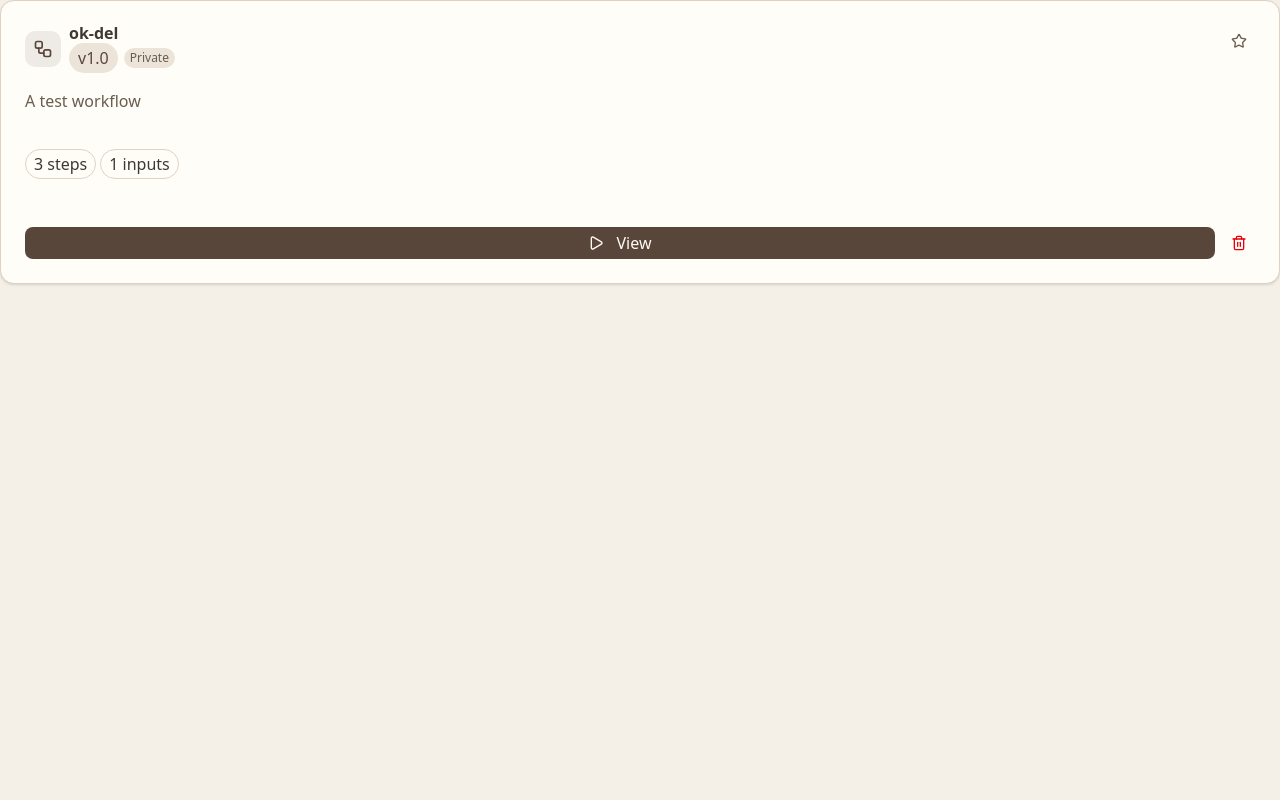
Scenario: WorkflowCard › successful delete shows success toast and closes dialog
This screenshot has width=1280, height=800.
Click the button with test id "workflow-delete-button".
click(1239, 243)  # box [1223,227,1255,259]
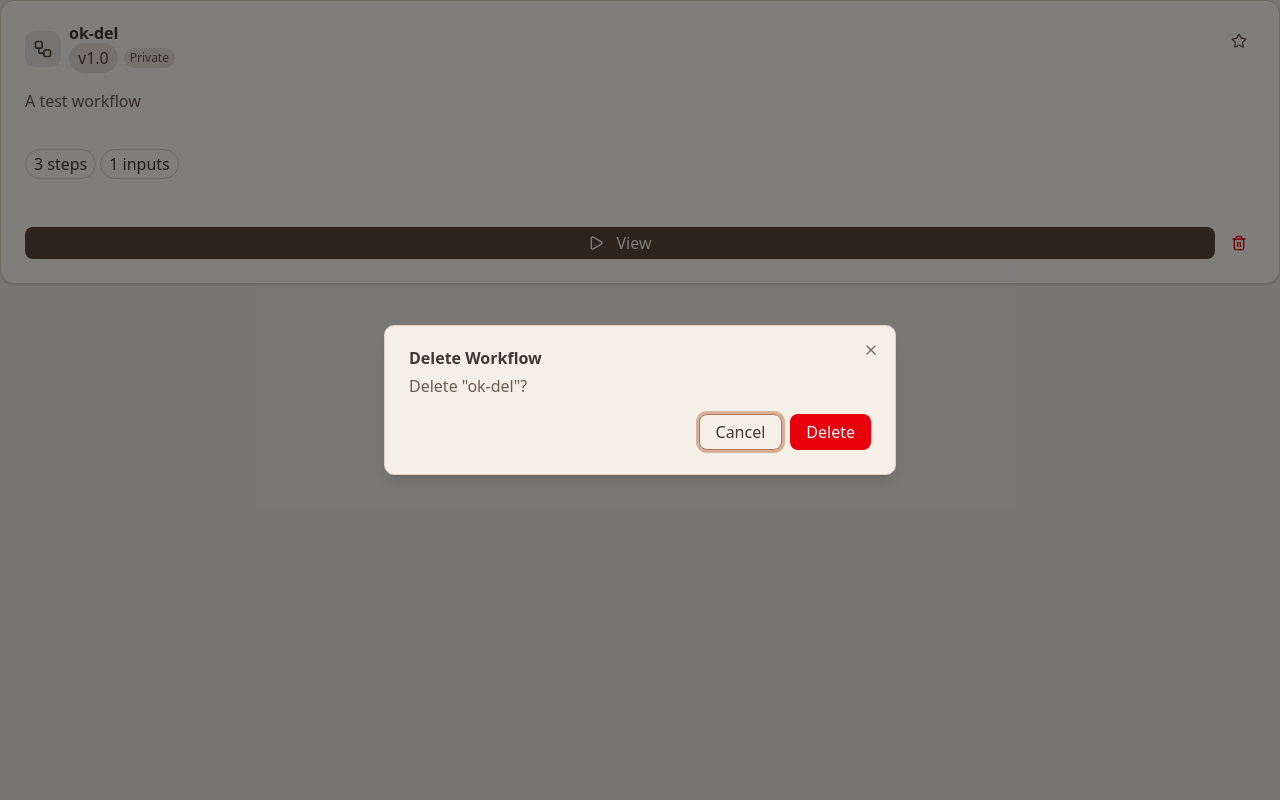
Result: the dialog is shown at [384,325,896,475]
Click the button "Delete".
click(831, 432)  # box [790,414,871,450]
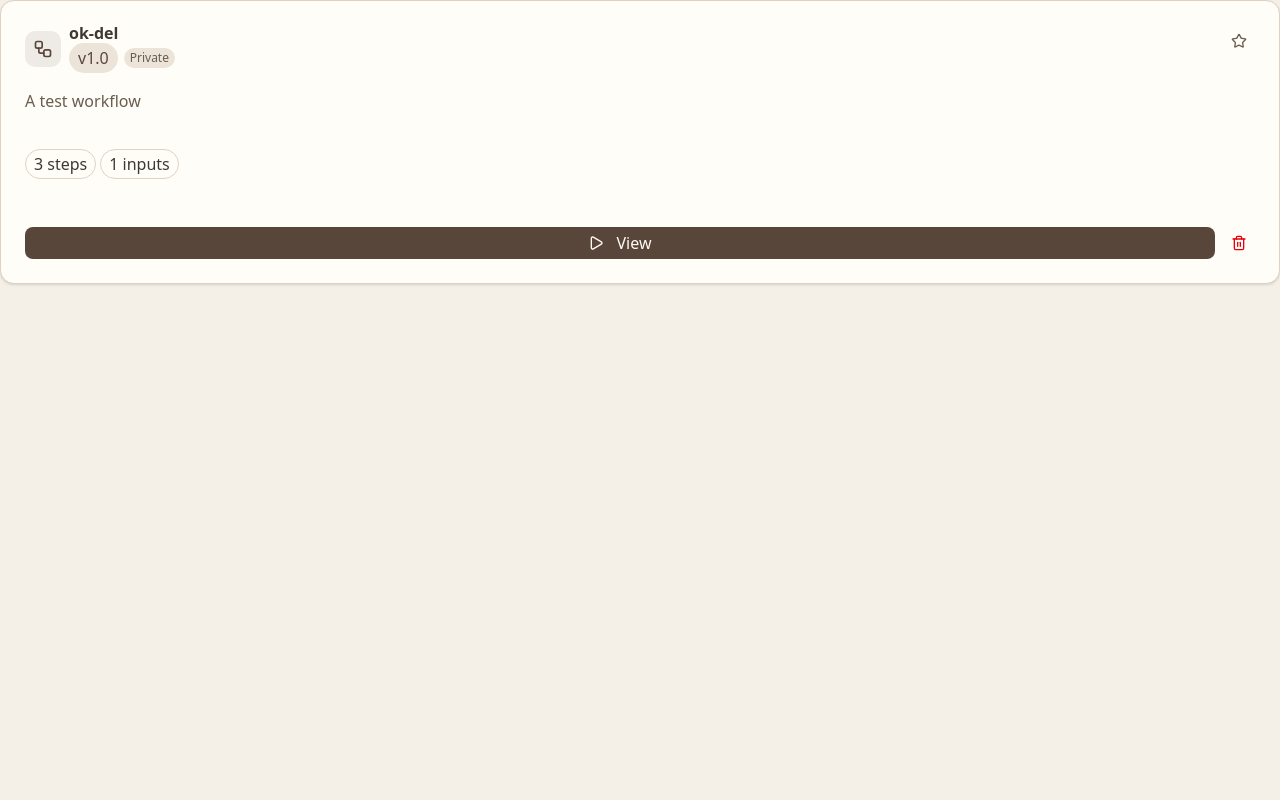
Result: the dialog is gone
